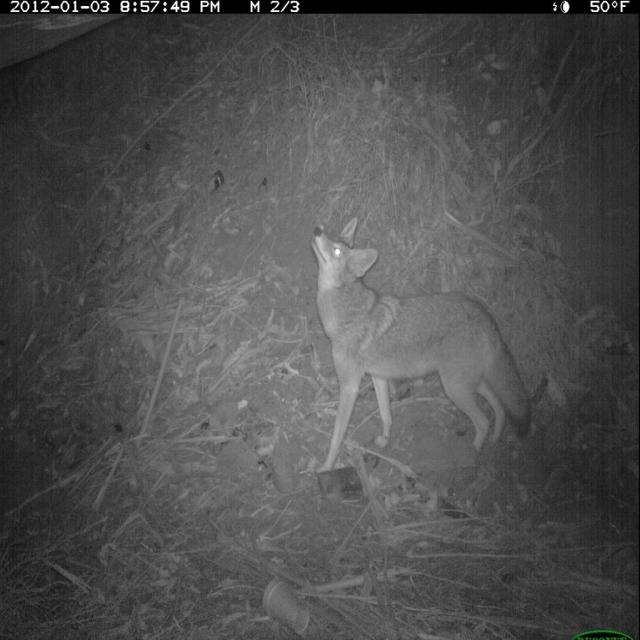coyote: (290, 204, 539, 484)
